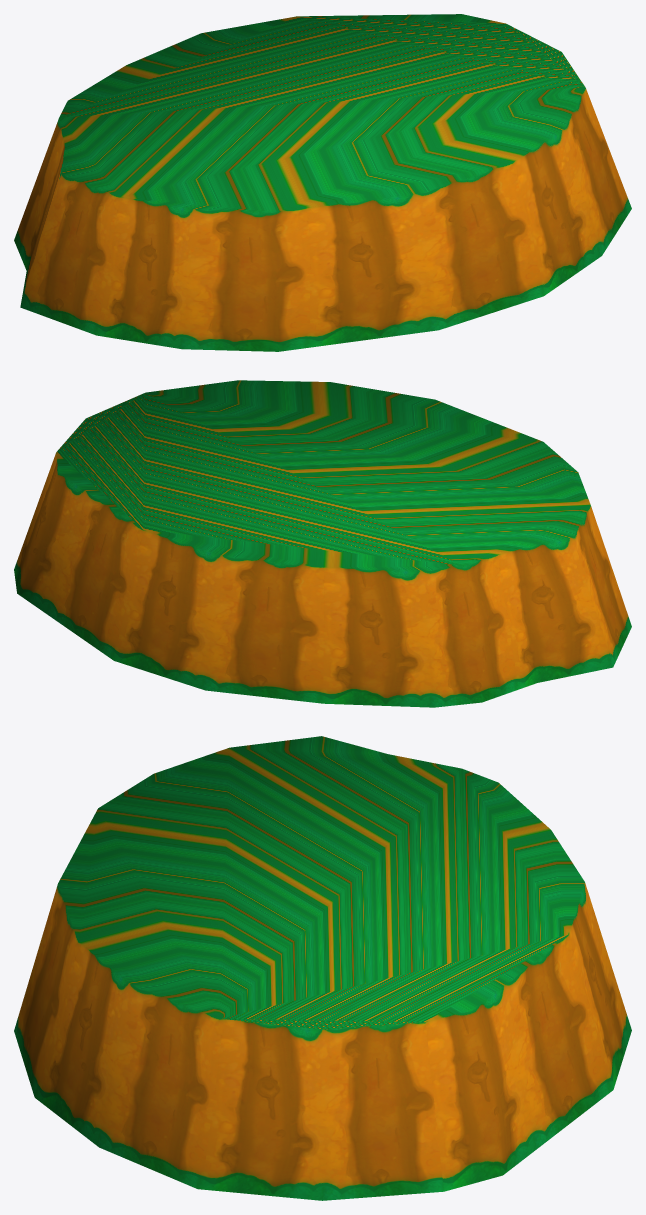
File: Hill01_g01_col.FBX
3 views of the same model, one above another, from view 1: azimuth 30°, elevation 25°; view 2: azimuth 150°, elevation 25°; view 3: azimuth 270°, elevation 25° (orthographic). The views are drawn at different scales.
Parts seen in each view (by area): view 1: Hill01_g01_col; view 2: Hill01_g01_col; view 3: Hill01_g01_col.
Part boxes in pixels (x1,y1,x2,y2): Hill01_g01_col: (14,14,631,351); Hill01_g01_col: (14,380,631,707); Hill01_g01_col: (14,736,631,1200).
Size of the model in its own units: 1256 by 256 by 963.
